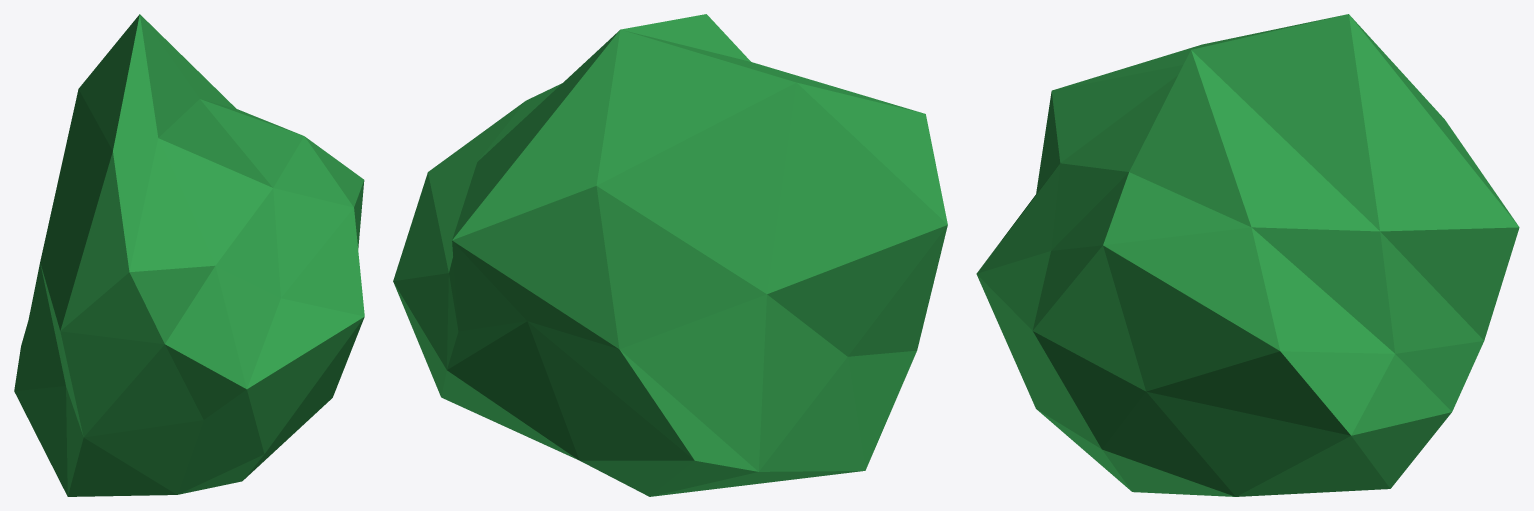
File: smallbush2.glb
3 renders of one model, left to right at view 1: azimuth 30°, elevation 25°; view 2: azimuth 150°, elevation 25°; view 3: azimuth 270°, elevation 25°, orthographic. The views are drawn at different scales.
Parts seen in each view (by area): view 1: Bush.004; view 2: Bush.004; view 3: Bush.004.
Boxes of the visible parts, x1=… form: Bush.004: x1=14, y1=14, x2=364, y2=496; Bush.004: x1=393, y1=14, x2=947, y2=496; Bush.004: x1=976, y1=14, x2=1519, y2=496.
Bounding box in the file's own units: 0.4887 × 0.5239 × 0.5204.
